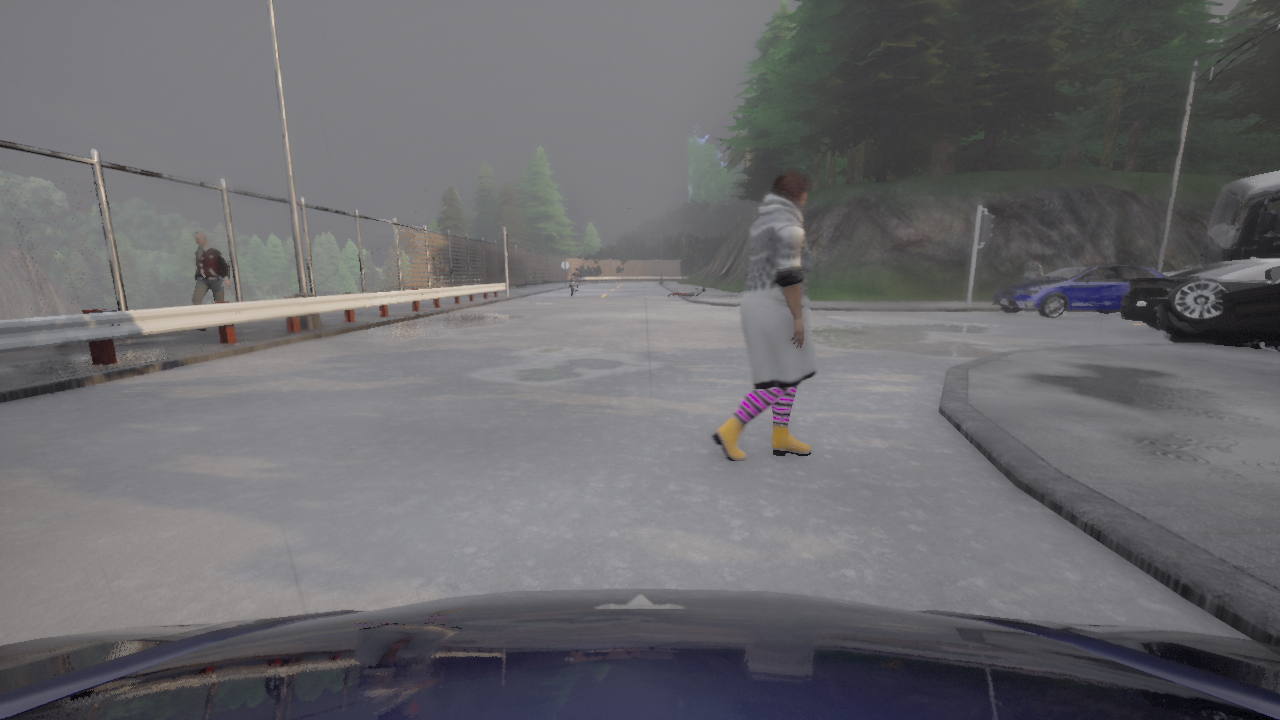cyclist: (0, 588, 1279, 719), (1121, 253, 1279, 330), (992, 263, 1166, 318), (1154, 278, 1279, 352), (1199, 171, 1279, 266), (1164, 264, 1198, 275), (569, 275, 579, 297)
pedestrian: (711, 171, 817, 461), (191, 231, 230, 331), (1024, 254, 1044, 280), (667, 287, 706, 298)
